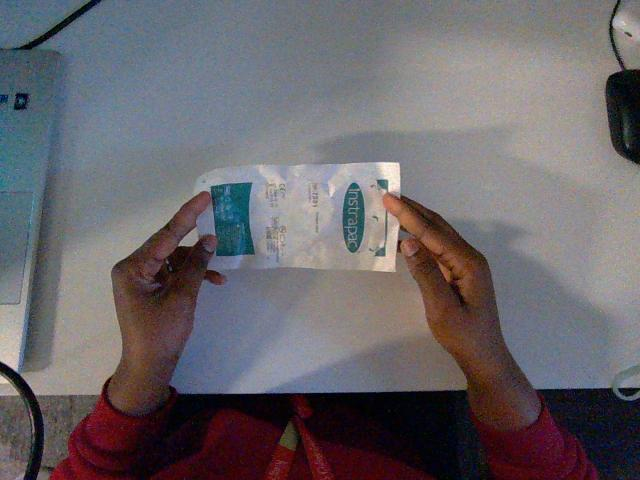gallipot: (195, 162, 399, 270)
